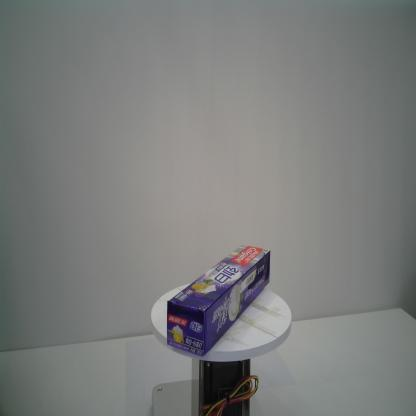Personal Hygiene: (165, 243, 271, 359)
